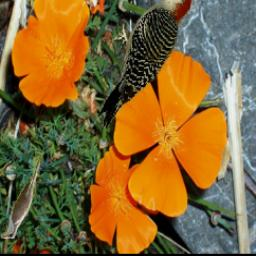Cuckoo: (2, 151, 43, 239)
Woodpecker: (96, 0, 194, 130)
